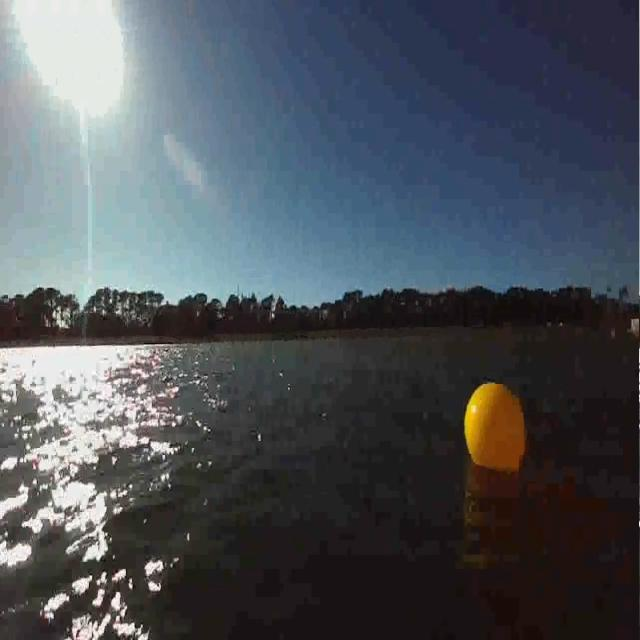yellow-buoy: (461, 378, 530, 476)
